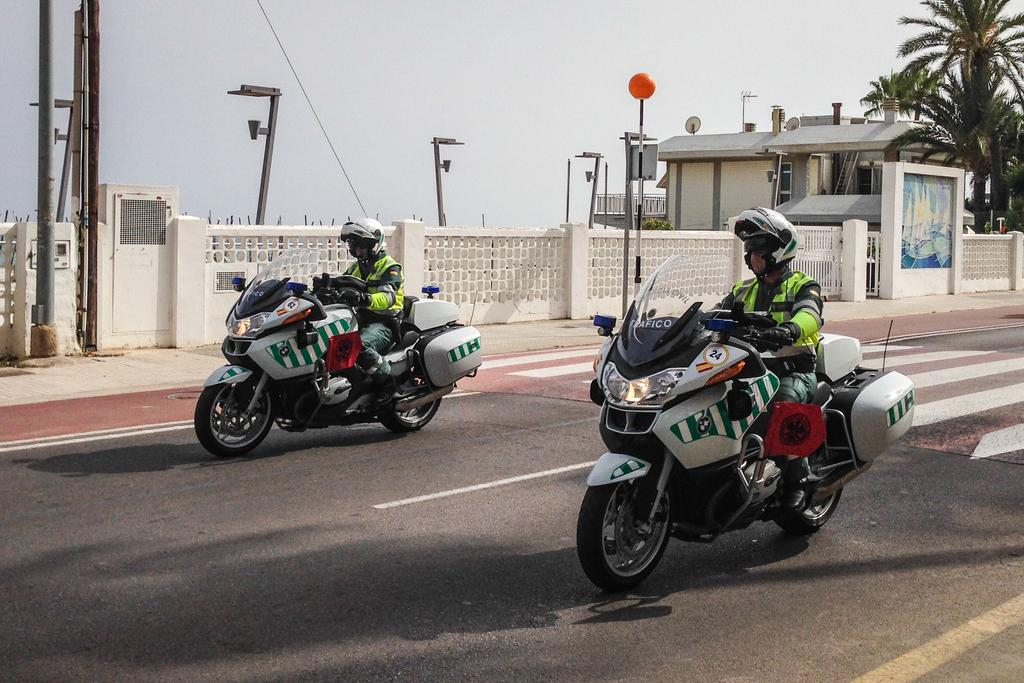helmet: (733, 206, 799, 270), (340, 218, 385, 258)
